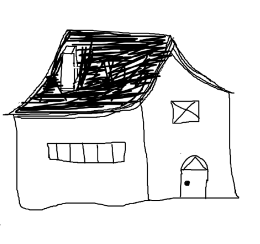chimney: (51, 40, 87, 96)
closed_window: (42, 137, 130, 168), (167, 95, 204, 128)
door: (174, 149, 213, 203)
shaded_roof: (2, 25, 235, 119)
wall: (13, 102, 155, 212)
